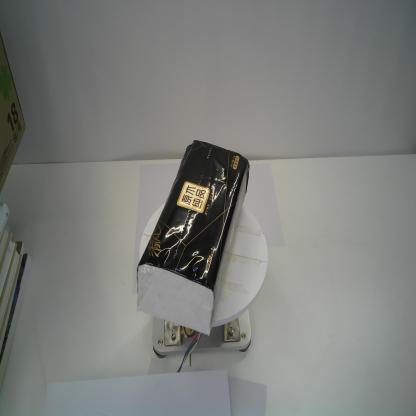Tissue: (136, 139, 251, 337)
